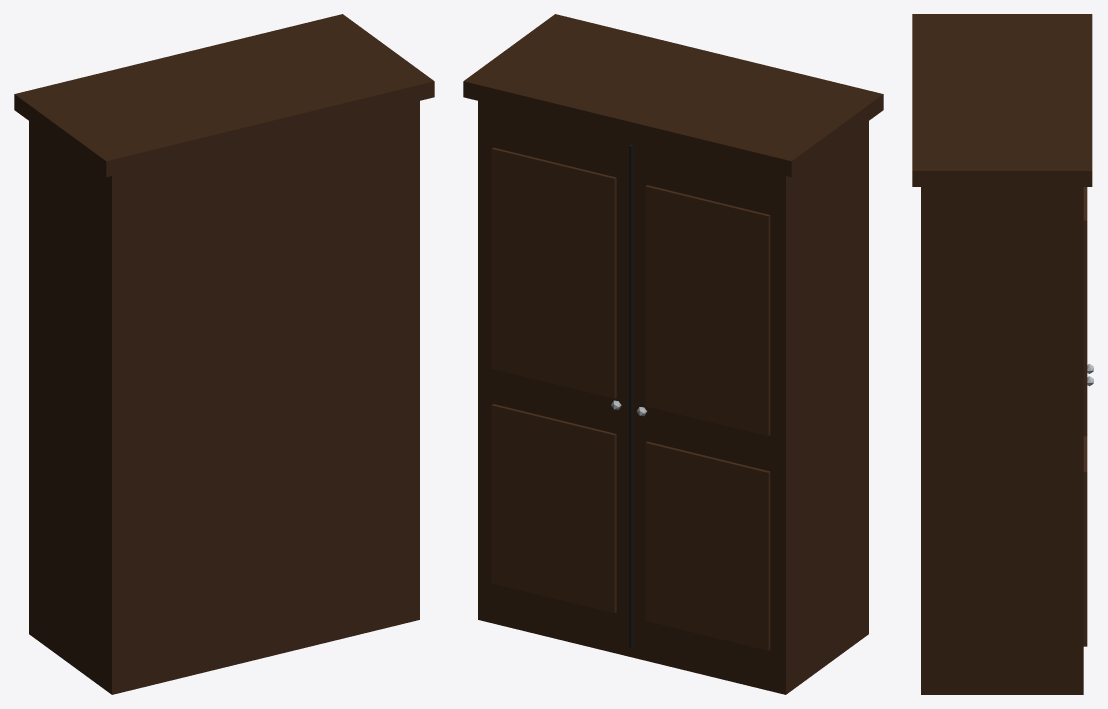
The model's file is wardrobe.obj.
The picture shows the model from 3 angles, left to right: view 1: azimuth 30°, elevation 25°; view 2: azimuth 150°, elevation 25°; view 3: azimuth 270°, elevation 25°; orthographic projection. The views are drawn at different scales.
Visible parts, largest first — view 1: wardrobe_0, wardrobe_1; view 2: wardrobe_0, wardrobe_1, wardrobe_2, wardrobe_5, wardrobe_3, wardrobe_6, wardrobe_7; view 3: wardrobe_0, wardrobe_1, wardrobe_5, wardrobe_6.
Part boxes in pixels (left/top/right/bottom): wardrobe_0: left=29, top=101, right=419, bottom=694; wardrobe_1: left=14, top=14, right=434, bottom=177; wardrobe_0: left=478, top=101, right=868, bottom=694; wardrobe_1: left=463, top=14, right=883, bottom=177; wardrobe_2: left=645, top=185, right=770, bottom=435; wardrobe_5: left=491, top=147, right=616, bottom=398; wardrobe_3: left=645, top=441, right=770, bottom=650; wardrobe_6: left=491, top=404, right=616, bottom=612; wardrobe_7: left=629, top=144, right=633, bottom=648; wardrobe_0: left=921, top=187, right=1083, bottom=694; wardrobe_1: left=912, top=14, right=1092, bottom=186; wardrobe_5: left=1083, top=187, right=1087, bottom=436; wardrobe_6: left=1083, top=436, right=1087, bottom=646.
Bounding box in the file's own units: 1.28 × 2.01 × 0.6253.
